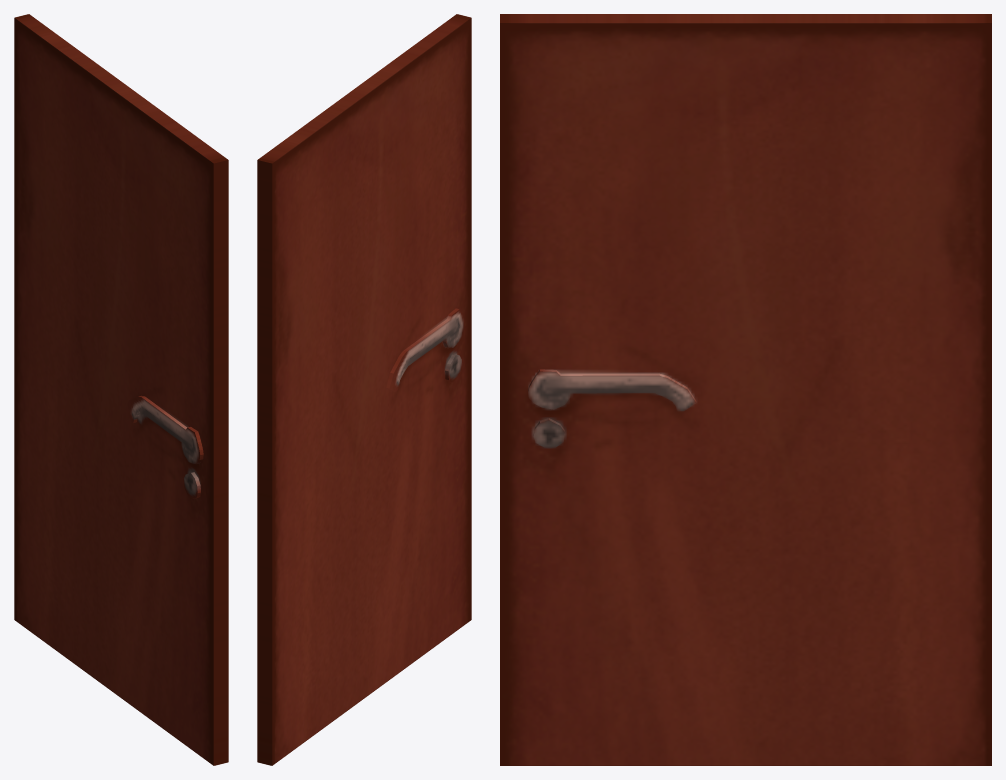
The model's file is door.obj.
3 views of the same model, side by side, from view 1: azimuth 30°, elevation 25°; view 2: azimuth 150°, elevation 25°; view 3: azimuth 270°, elevation 25° (orthographic). The views are drawn at different scales.
Visible parts, largest first — view 1: door1; view 2: door1; view 3: door1.
Part boxes in pixels (x1,y1,x2,y2): door1: [14, 14, 228, 765]; door1: [257, 14, 471, 765]; door1: [500, 14, 991, 765].
Bounding box in the file's own units: 0.0377 × 1 × 0.6.
